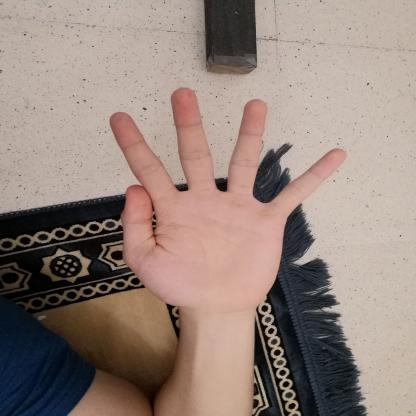SHEEN: (85, 80, 357, 323)
